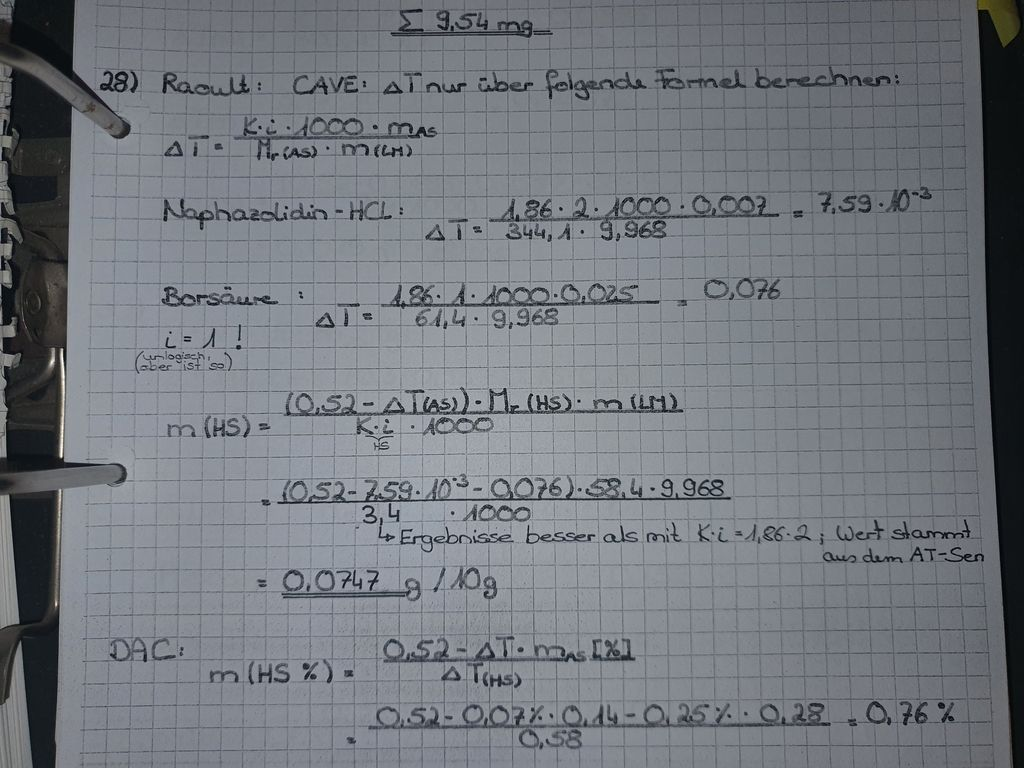equals: (669, 289, 696, 317), (788, 202, 811, 226), (252, 569, 272, 595), (338, 729, 360, 751), (841, 712, 860, 734), (337, 664, 360, 682), (257, 489, 274, 513), (257, 414, 273, 437), (360, 306, 378, 326), (469, 221, 487, 238), (181, 329, 194, 345), (211, 139, 224, 153), (733, 528, 745, 538)
equation: (159, 377, 695, 456), (412, 176, 943, 252), (313, 271, 792, 341), (251, 462, 738, 526), (204, 627, 642, 692), (148, 108, 467, 167), (248, 554, 510, 608), (692, 516, 815, 548), (148, 319, 231, 353)
fraction: (278, 468, 732, 526), (283, 382, 692, 444), (367, 698, 835, 751), (487, 187, 789, 245), (377, 277, 662, 335), (374, 631, 634, 687), (229, 115, 443, 164), (274, 561, 503, 604)
seperator: (367, 120, 384, 134), (323, 143, 334, 154), (284, 123, 293, 134), (256, 122, 265, 131)
term: (814, 183, 938, 224), (209, 652, 335, 689), (864, 691, 962, 732), (164, 405, 255, 446), (701, 273, 786, 313), (159, 125, 214, 162), (312, 296, 363, 334), (745, 518, 812, 545), (422, 211, 469, 248), (250, 137, 318, 162), (339, 141, 416, 161), (295, 117, 364, 134), (389, 118, 444, 139), (696, 519, 731, 545), (159, 327, 178, 355), (202, 327, 223, 352), (242, 114, 259, 135), (265, 117, 281, 136)
